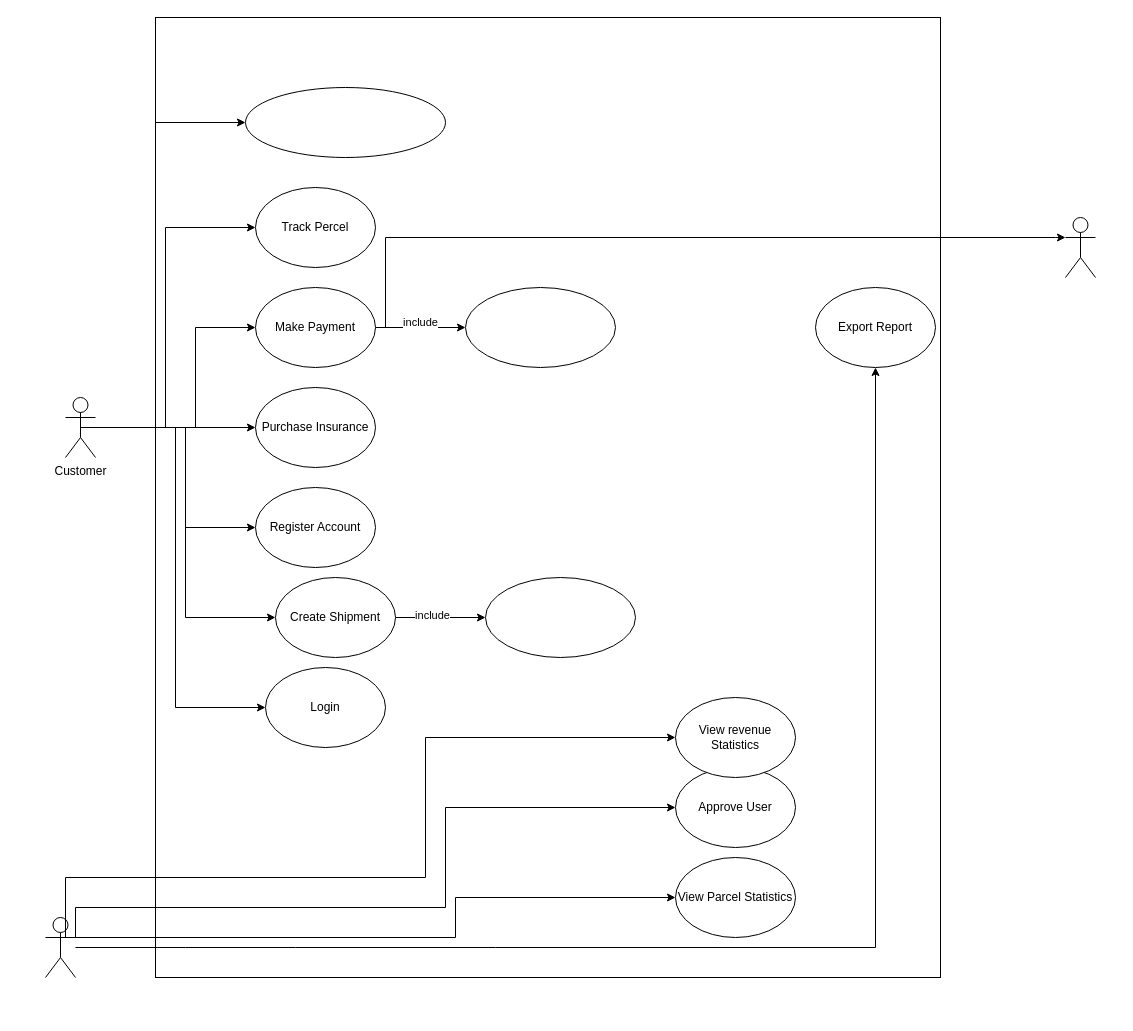
Image size: 1133x1031. Some labels were removed from this diagram. The centre of each missing label's shape, as x and y in pixels:
"Bank System" belongs at (x=1080, y=247).
"Calculate Shipping Price" belongs at (x=560, y=617).
"Generate Shipping Label" belongs at (x=540, y=327).
"Post Office Staff (Admin)" belongs at (x=60, y=947).
"View Transaction History" belongs at (x=345, y=122).
